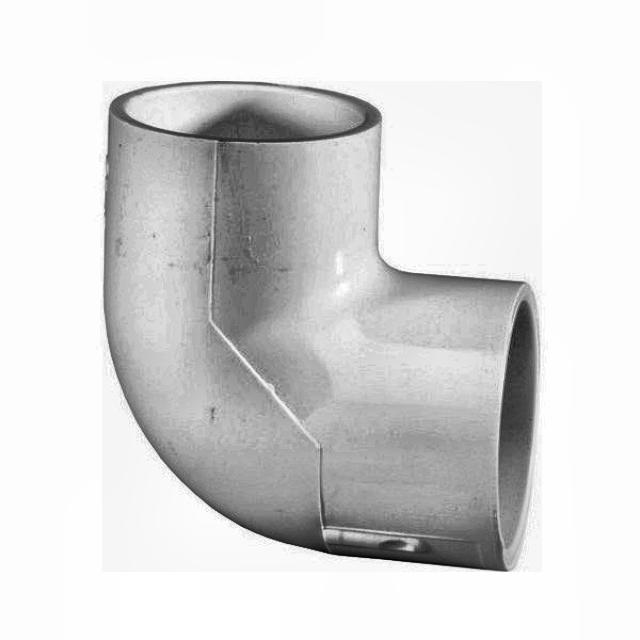ELBOW90: (102, 78, 545, 575)
